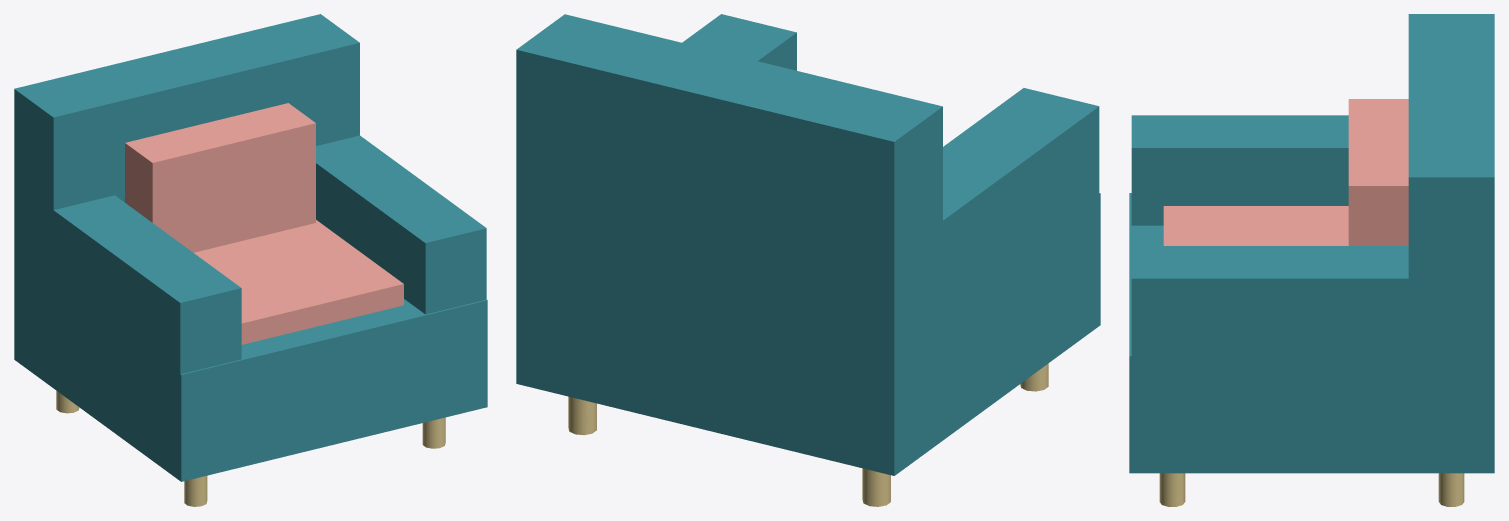
Rendered from bb_set_armchair.fbx.
The picture shows the model from 3 angles, left to right: view 1: azimuth 30°, elevation 25°; view 2: azimuth 150°, elevation 25°; view 3: azimuth 270°, elevation 25°; orthographic projection. The views are drawn at different scales.
Parts seen in each view (by area): view 1: bb_set_armchair; view 2: bb_set_armchair; view 3: bb_set_armchair.
Boxes of the visible parts, x1,y1,x2,y2 form: bb_set_armchair: (14,14,487,506); bb_set_armchair: (516,14,1100,506); bb_set_armchair: (1129,14,1494,506).
Size of the model in its own units: 0.9 by 0.88 by 0.85.
